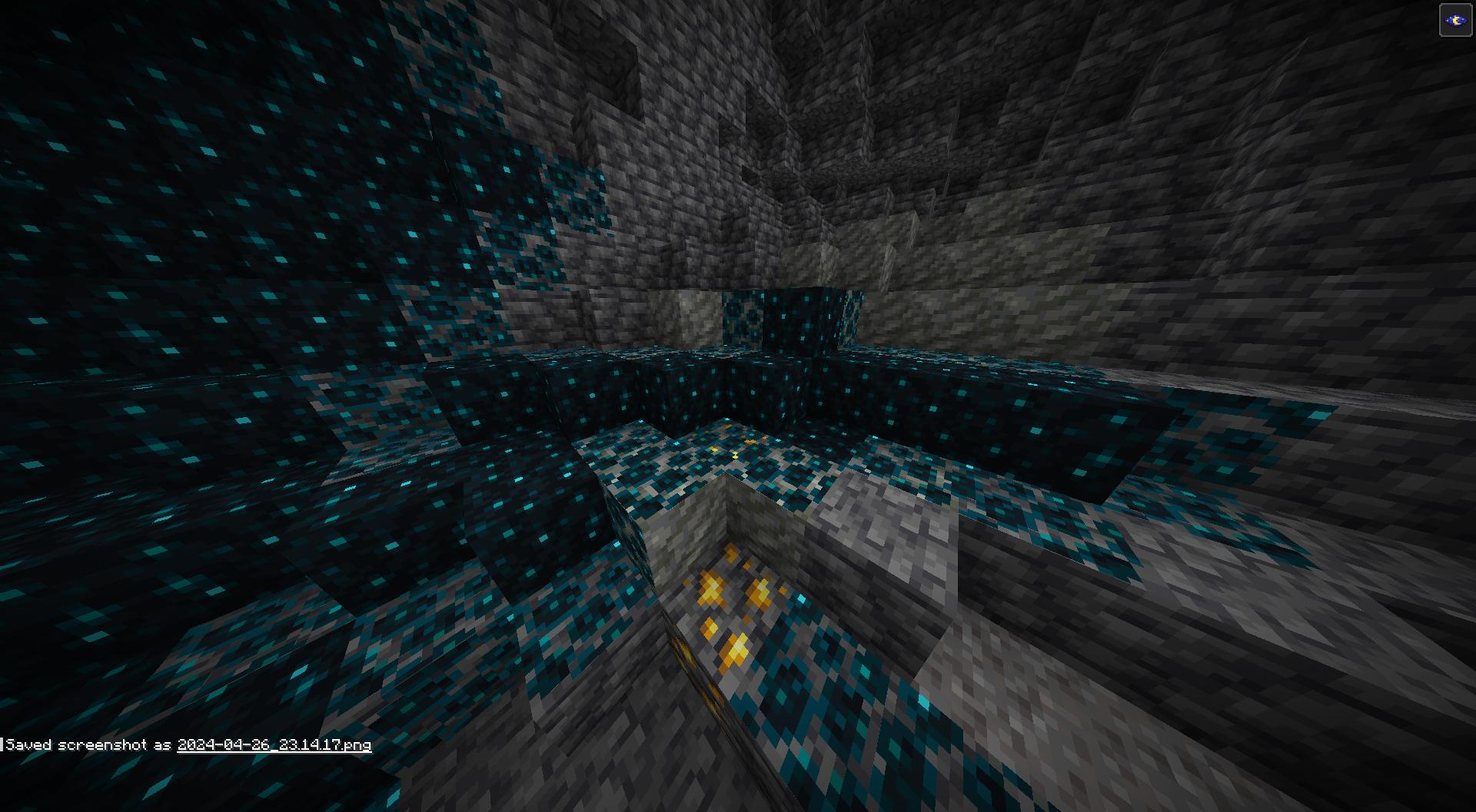gold ore: (671, 539, 787, 673)
